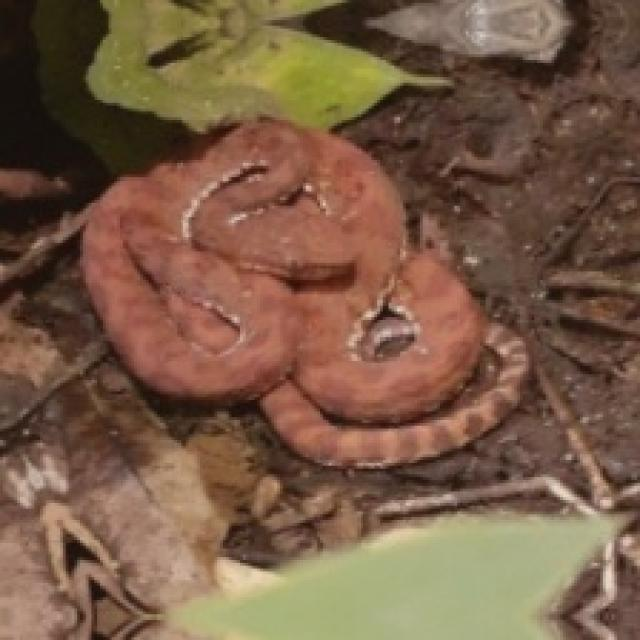philippine pitviper: (83, 120, 526, 466)
